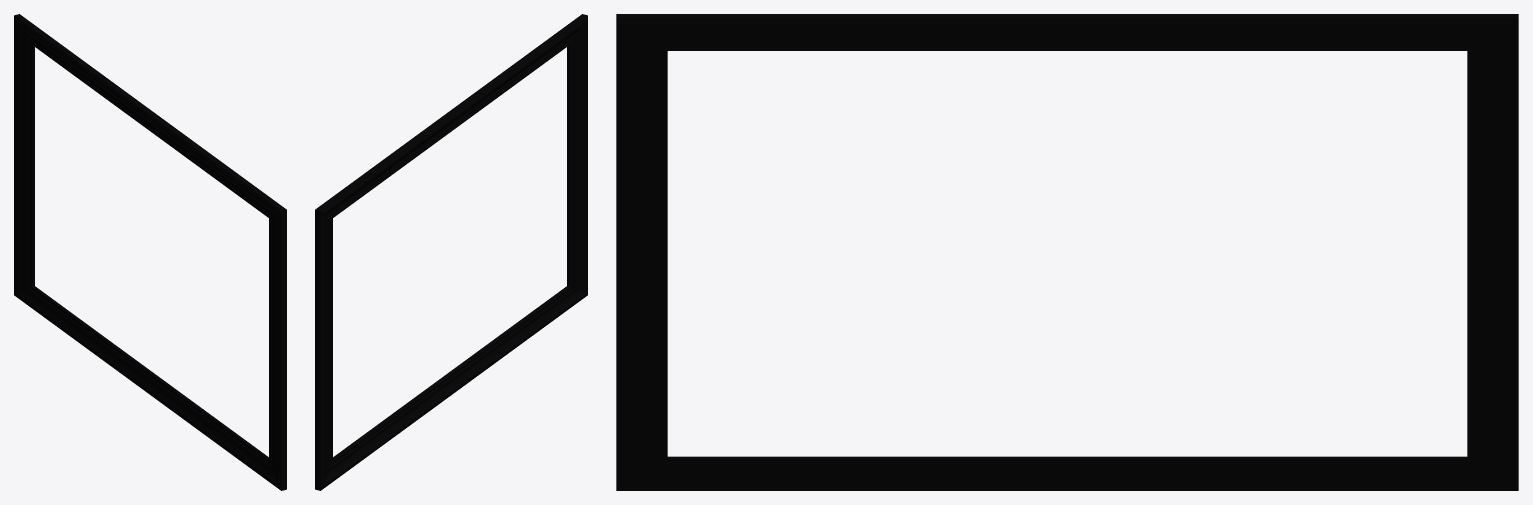
File: Frame.obj
3 views of the same model, side by side, from view 1: azimuth 30°, elevation 25°; view 2: azimuth 150°, elevation 25°; view 3: azimuth 270°, elevation 25° (orthographic). The views are drawn at different scales.
Parts seen in each view (by area): view 1: Rectangle008; view 2: Rectangle008; view 3: Rectangle008.
Part boxes in pixels (x1=…): Rectangle008: x1=14, y1=14, x2=286, y2=490; Rectangle008: x1=315, y1=14, x2=587, y2=490; Rectangle008: x1=616, y1=14, x2=1518, y2=490.
Size of the model in its own units: 0.0622 by 2.29 by 3.97.
